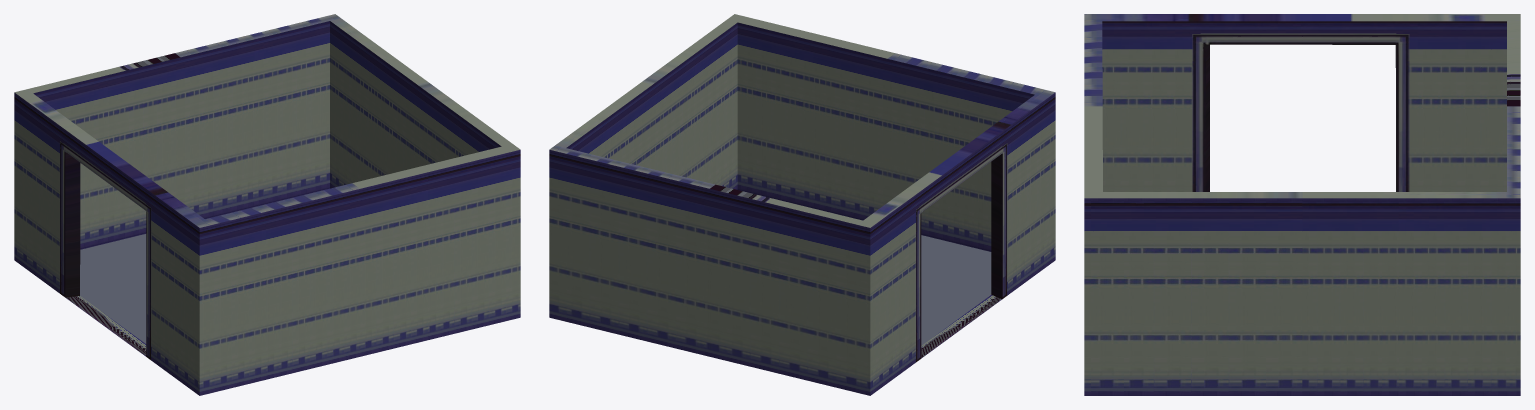
The model's file is ElevatorI.fbx.
3 renders of one model, left to right at view 1: azimuth 30°, elevation 25°; view 2: azimuth 150°, elevation 25°; view 3: azimuth 270°, elevation 25°, orthographic. The views are drawn at different scales.
Visible parts, largest first — view 1: RPiece.005; view 2: RPiece.005; view 3: RPiece.005.
Part boxes in pixels (x1=…): RPiece.005: x1=14, y1=14, x2=520, y2=395; RPiece.005: x1=549, y1=14, x2=1055, y2=395; RPiece.005: x1=1084, y1=14, x2=1520, y2=395.
Size of the model in its own units: 400 by 200 by 400.
